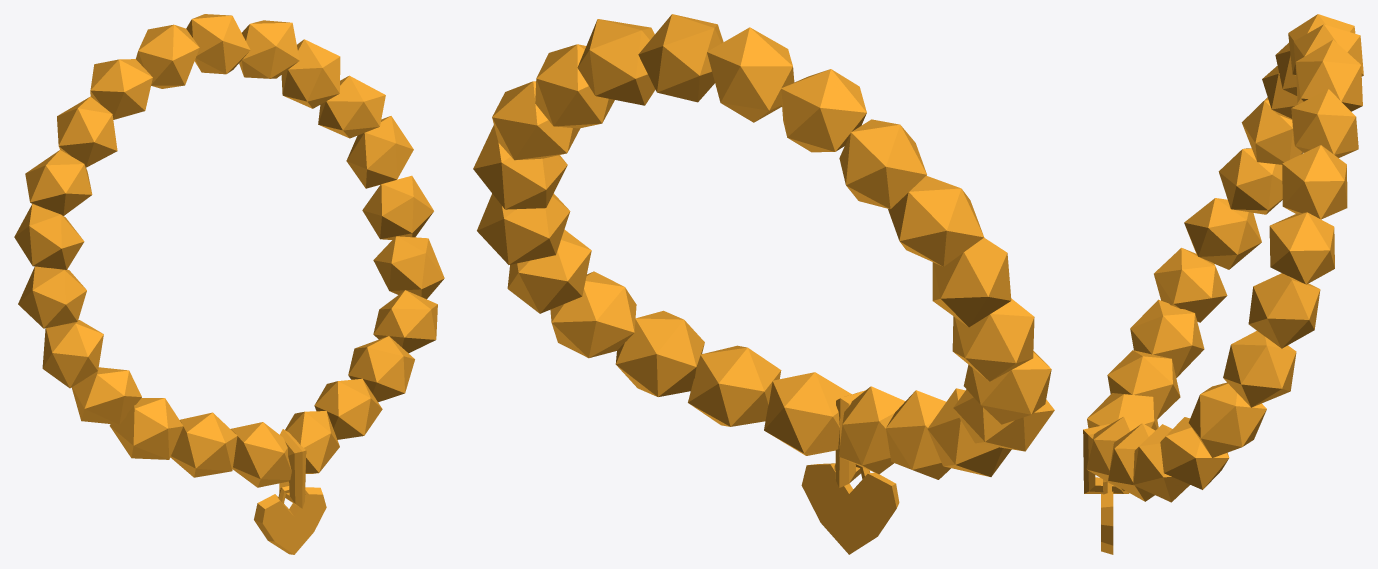
File: SM_Collar_Pearl.fbx
3 renders of one model, left to right at view 1: azimuth 30°, elevation 25°; view 2: azimuth 150°, elevation 25°; view 3: azimuth 270°, elevation 25°, orthographic. The views are drawn at different scales.
Visible parts, largest first — view 1: SM_Collar_Pearl; view 2: SM_Collar_Pearl; view 3: SM_Collar_Pearl.
Boxes of the visible parts, box(x1,y1,x2,y2) form: SM_Collar_Pearl: box(14, 14, 444, 554); SM_Collar_Pearl: box(473, 14, 1054, 554); SM_Collar_Pearl: box(1083, 14, 1363, 554).
Bounding box in the file's own units: 0.0976 × 0.1086 × 0.0532.
